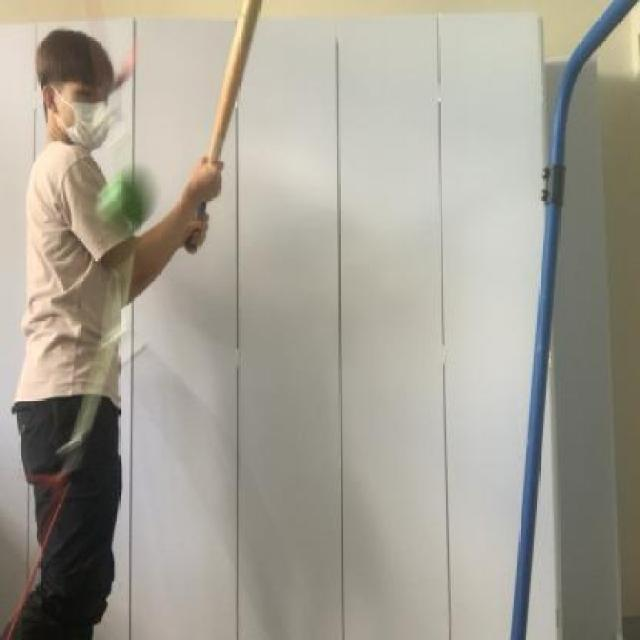baseball: (95, 159, 162, 238)
